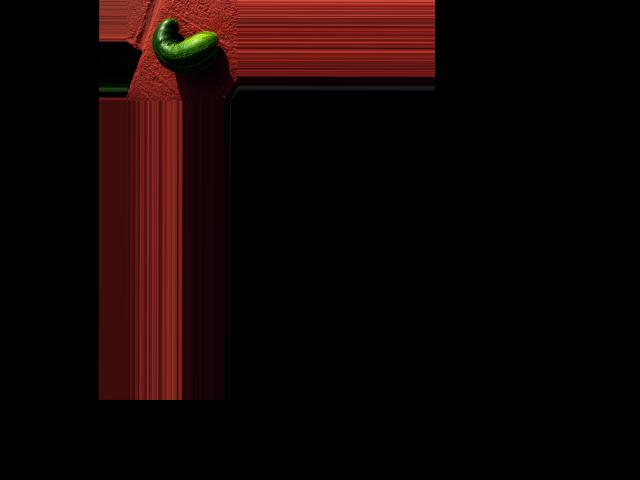cucumber: (152, 17, 218, 73)
